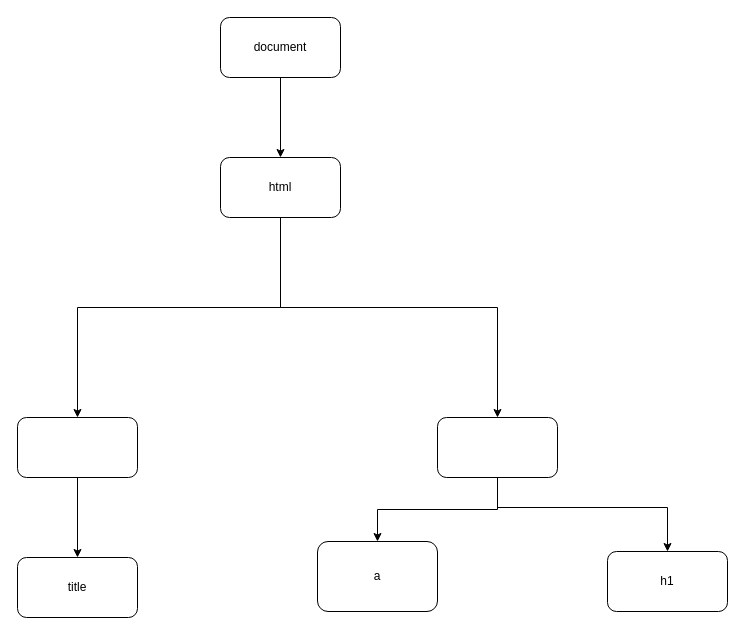
The diagram is 745 pixels wide and 635 high, and some of its shapes have lost their labels. Here are the shapes that lost their labels. From the top down, the centre of each, then its label:
At point (77, 447): "head".
At point (497, 447): "body".
